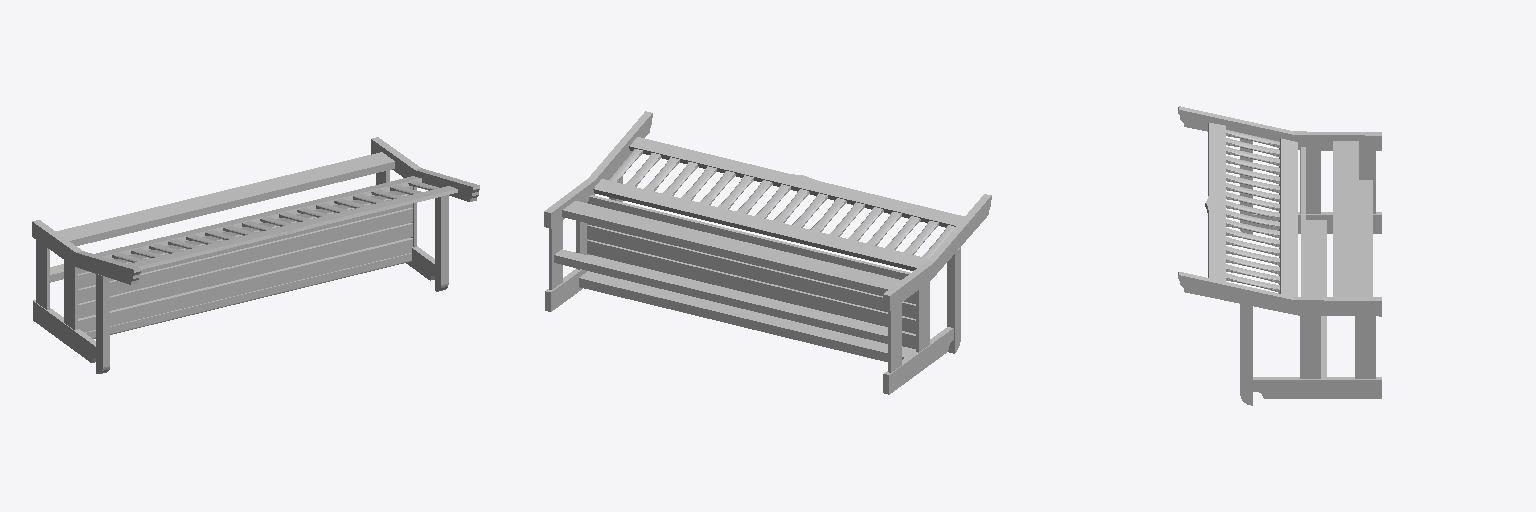
Rendered from GardenSeat1.obj.
3 renders of one model, left to right at view 1: azimuth 30°, elevation 25°; view 2: azimuth 150°, elevation 25°; view 3: azimuth 270°, elevation 25°, orthographic.
Parts seen in each view (by area): view 1: LowBackBar, SeatSlat1, SeatSlat2, SeatSlat3, TopBar, SeatGrillB, FrontSeatB, RightBackL, BackBottom, LeftBackLe, SeatSlat4, RightFront (+6 smaller); view 2: SeatGrillB, LowBackBar, FrontSeatB, BackBottom, LowCrossBa, SeatSlat2, SeatSlat3, TopBar, SeatSlat5, RightBackL, LeftBackLe, RightFront (+6 smaller); view 3: SeatGrillB, LowBackBar, LeftBackLe, RightBackL, TopBar, BackBottom, LeftFrontF, FrontSeatB, LowCrossBa, LeftLegBat, LeftSeatBa, LeftArm (+4 smaller).
Boxes of the visible parts, box(x1,y1,x2,y2) form: LowBackBar: box(56, 152, 394, 245); SeatSlat1: box(78, 238, 412, 332); SeatSlat2: box(78, 223, 412, 318); SeatSlat3: box(78, 208, 412, 303); TopBar: box(129, 186, 457, 269); SeatGrillB: box(112, 181, 438, 262); FrontSeatB: box(85, 253, 411, 338); RightBackL: box(32, 220, 140, 284); BackBottom: box(95, 176, 421, 258); LeftBackLe: box(371, 137, 479, 201); SeatSlat4: box(78, 194, 412, 288); RightFront: box(33, 300, 95, 362); SeatGrillB: box(609, 149, 955, 258); LowBackBar: box(562, 201, 900, 294); FrontSeatB: box(579, 271, 915, 361); BackBottom: box(593, 179, 927, 270); LowCrossBa: box(554, 249, 887, 343); SeatSlat2: box(587, 240, 915, 333); SeatSlat3: box(587, 225, 915, 318); TopBar: box(629, 137, 964, 227); SeatSlat5: box(587, 195, 909, 279); RightBackL: box(883, 194, 991, 310); LeftBackLe: box(544, 111, 652, 228); RightFront: box(883, 327, 953, 394); SeatGrillB: box(1226, 130, 1279, 292); LowBackBar: box(1333, 141, 1358, 296); LeftBackLe: box(1178, 272, 1381, 316); RightBackL: box(1178, 106, 1381, 150); TopBar: box(1205, 123, 1225, 281); BackBottom: box(1279, 138, 1297, 296); LeftFrontF: box(1253, 377, 1381, 398); FrontSeatB: box(1306, 220, 1326, 376); LowCrossBa: box(1359, 180, 1372, 296); LeftLegBat: box(1355, 316, 1375, 378); LeftSeatBa: box(1300, 316, 1320, 378); LeftArm: box(1240, 304, 1252, 405).
Bounding box in the file's own units: 5.13 × 1.86 × 2.62.